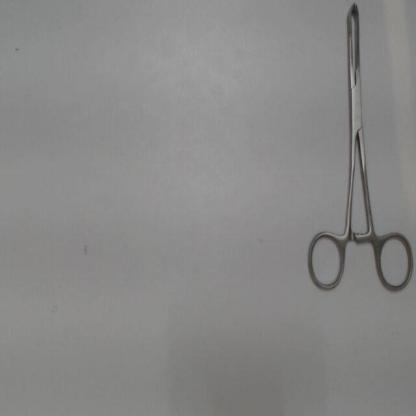Allis Tissue Forceps: (302, 1, 416, 300)
